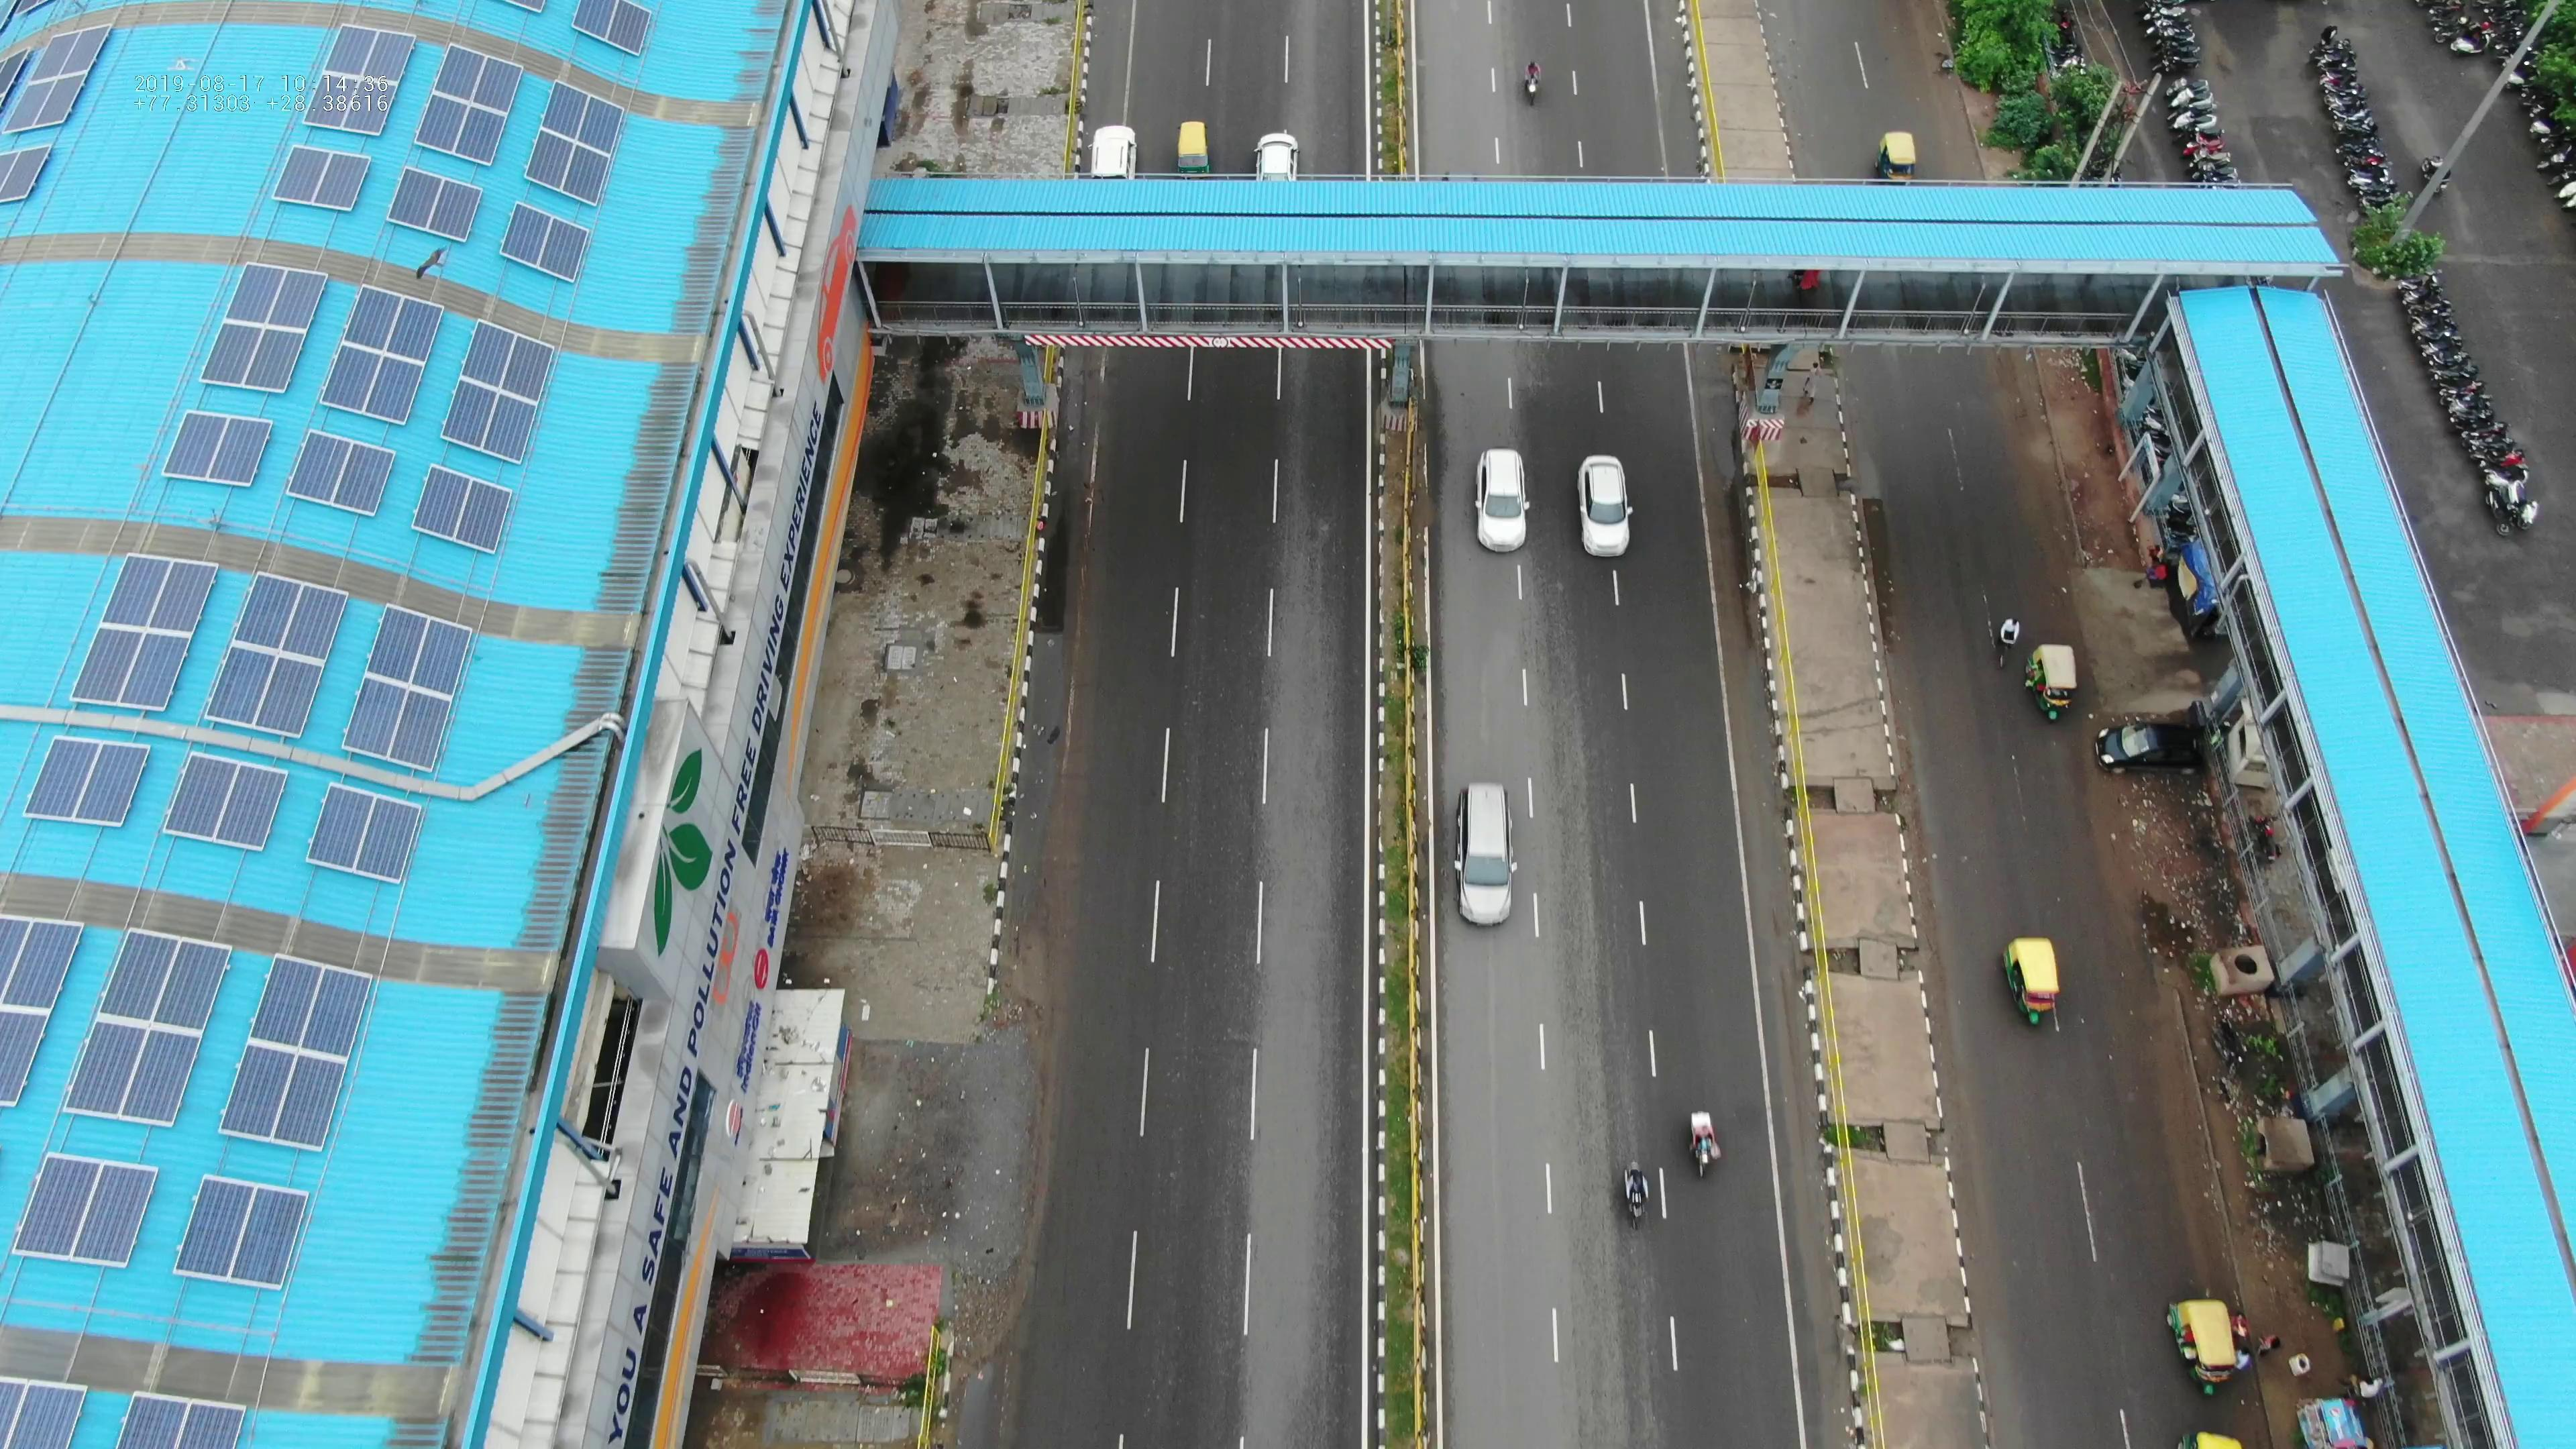Waterlogging: (1688, 384, 1771, 614), (1844, 444, 1902, 630)
